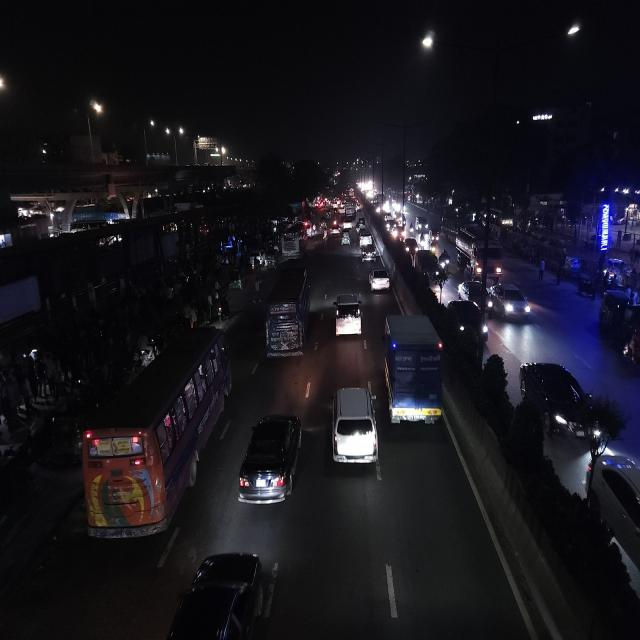bus: (79, 328, 229, 548), (263, 262, 314, 368), (281, 225, 303, 258)
car: (151, 544, 274, 640), (236, 408, 306, 514), (518, 356, 580, 448), (325, 381, 381, 480), (487, 280, 535, 327), (446, 298, 490, 347), (332, 292, 364, 346), (415, 250, 444, 290), (368, 260, 390, 296), (361, 242, 377, 262), (358, 228, 373, 247), (357, 219, 369, 240), (340, 228, 352, 248), (404, 236, 418, 253)
cng: (228, 268, 245, 293), (413, 215, 428, 234), (430, 230, 440, 245)
motorcycle: (445, 249, 450, 273)
pedestrian: (536, 255, 548, 282)
truck: (380, 310, 446, 436), (455, 225, 504, 279)
